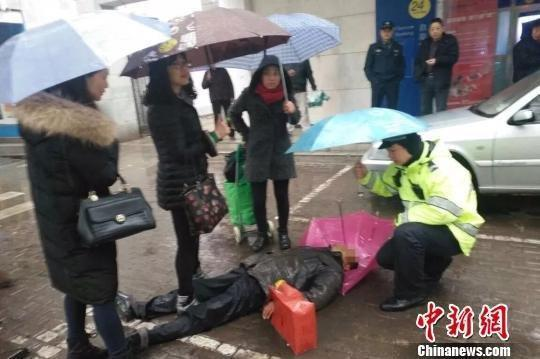Fall-Detected: (111, 229, 362, 357)
